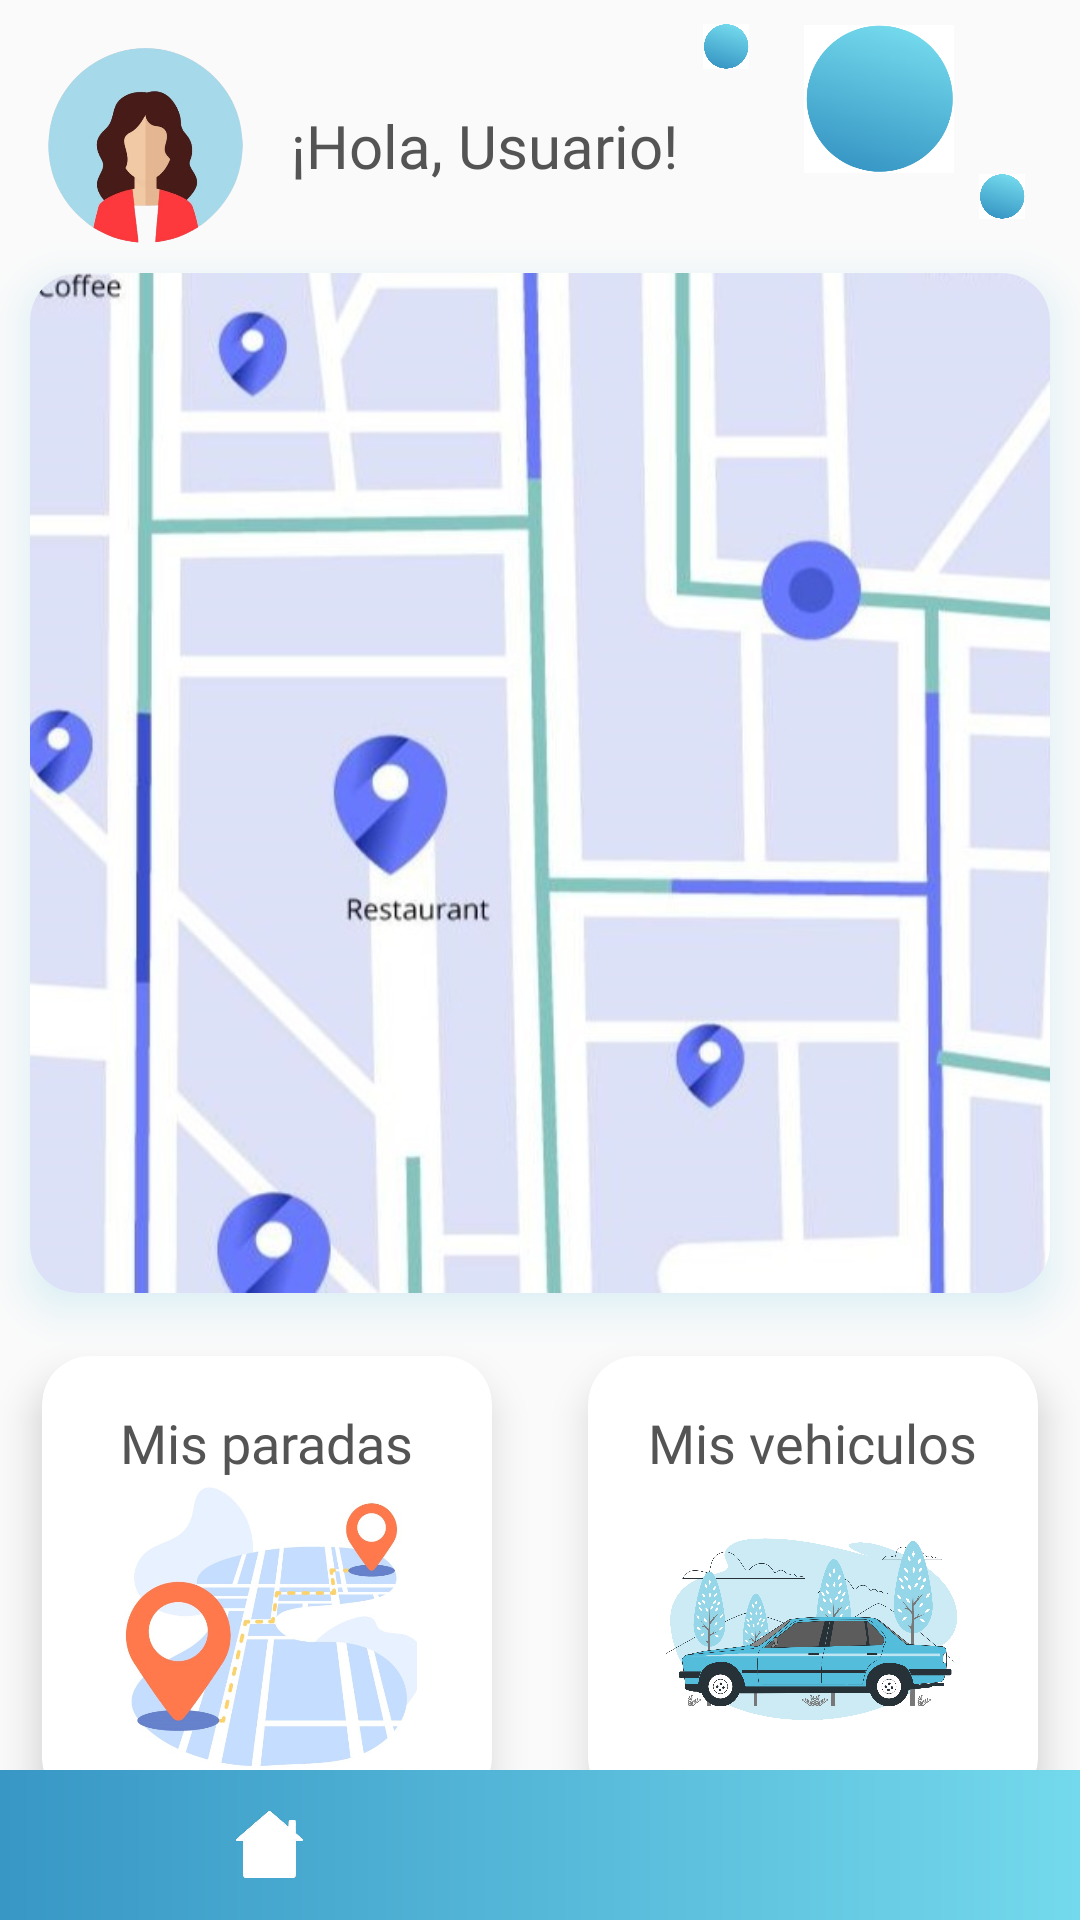

Named icons in this screenshot (1080w x 1920h) and their centers, (x=x, y=y):
Inicio: (x=269, y=1844)
user photo: (x=145, y=145)
